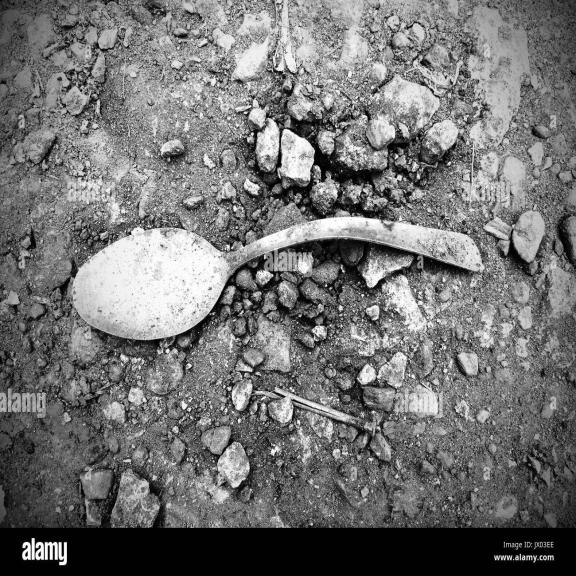Plastik: (71, 213, 481, 340)
